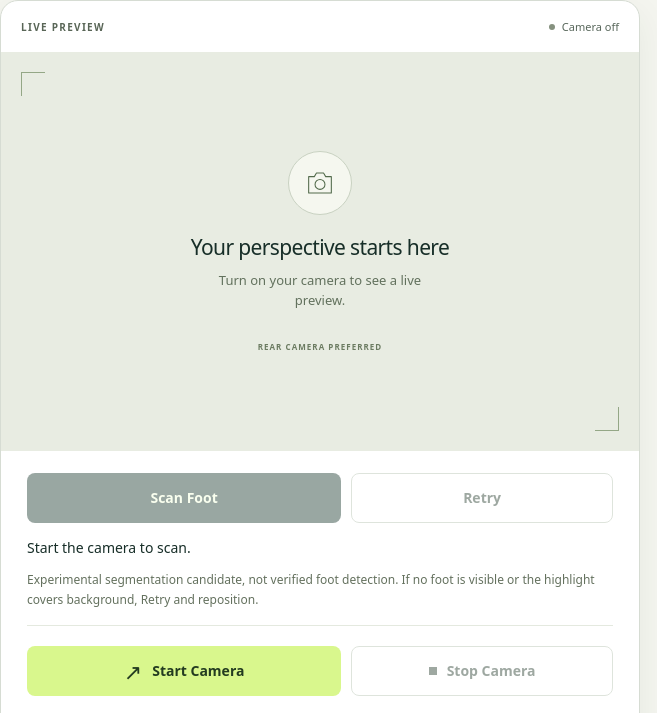
Test: CameraPreview › explains unsupported browsers
This screenshot has width=657, height=713.
Click the button "↗ Start Camera".
click(184, 671)  # box [27,646,341,696]
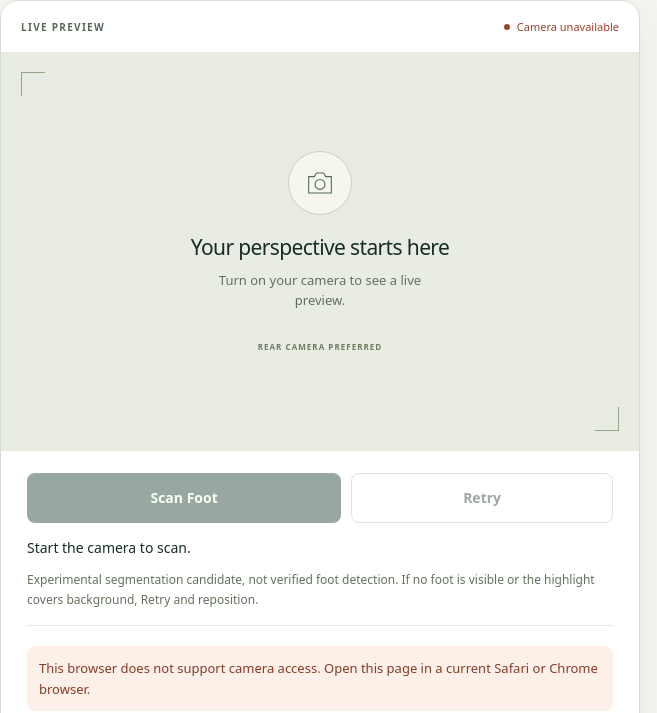
Result: the 3rd message shows "does not support" at [39,659,598,698]
